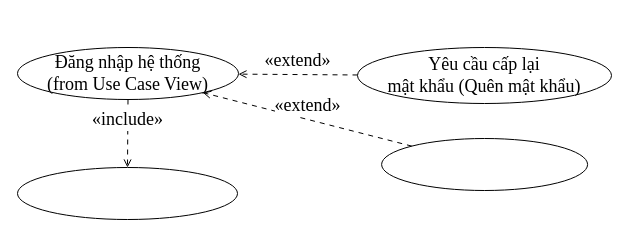
Image size: 629x237. Some labels were removed from this diagram. Here are the shapes that lost their labels. From the top down, the box of each, then its label:
(381, 138, 588, 190): Lưu phiên đăng nhập (Ghi nhớ tài khoản)
(16, 166, 238, 220): Xác thực thông tin (Username/Password)
